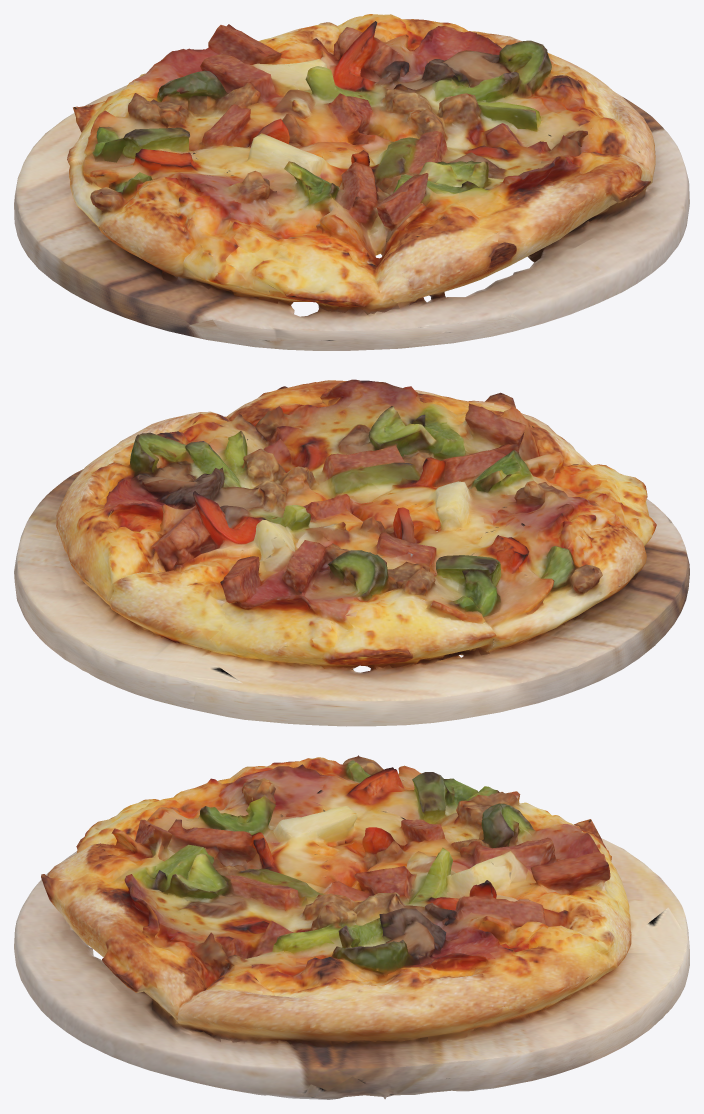
The model's file is Fajita Pizza.glb.
The picture shows the model from 3 angles, top to bottom: view 1: azimuth 30°, elevation 25°; view 2: azimuth 150°, elevation 25°; view 3: azimuth 270°, elevation 25°; orthographic projection.
Parts seen in each view (by area): view 1: Fajita Pizza; view 2: Fajita Pizza; view 3: Fajita Pizza.
Part boxes in pixels (x1,y1,x2,y2): Fajita Pizza: (14, 14, 689, 350); Fajita Pizza: (14, 379, 689, 726); Fajita Pizza: (14, 755, 689, 1099).
Bounding box in the file's own units: 0.6798 × 0.1365 × 0.6661.
1 material, 1 textured.
